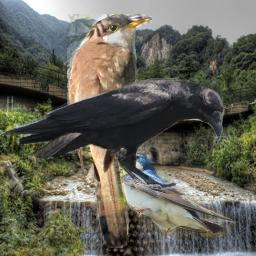Crow: (0, 78, 224, 189)
Cuckoo: (67, 14, 152, 248)
Swallow: (115, 153, 236, 243)
